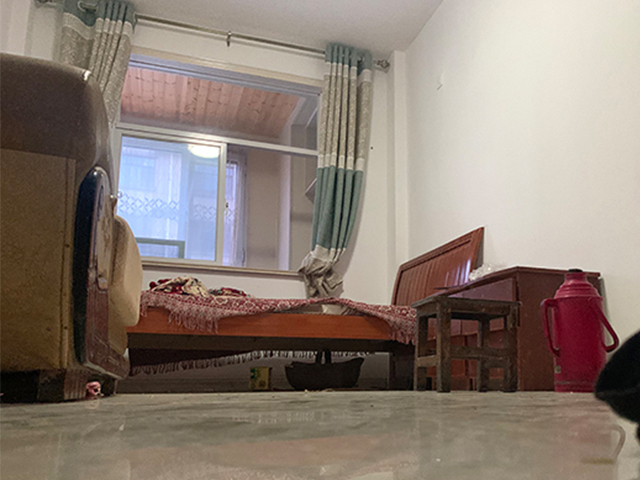bed: (129, 225, 483, 389)
cabinet: (451, 266, 556, 393)
curtain: (301, 38, 375, 299)
sofa: (1, 51, 143, 403)
stool: (412, 294, 522, 394)
